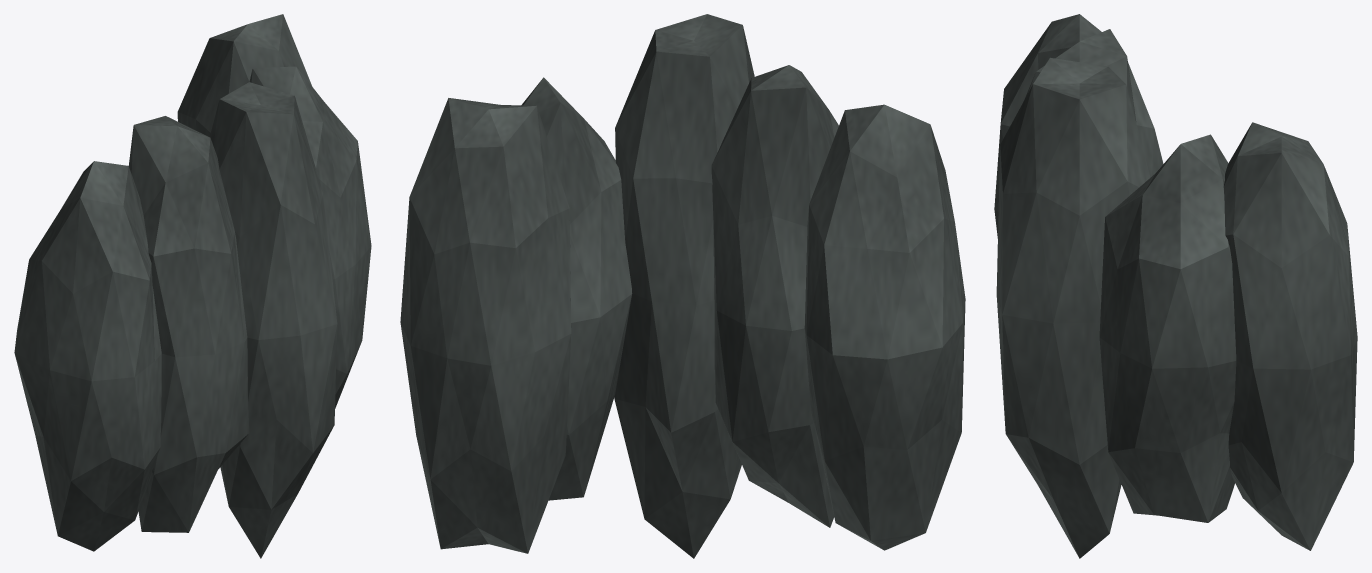
Rendered from cliff_corner.glb.
3 renders of one model, left to right at view 1: azimuth 30°, elevation 25°; view 2: azimuth 150°, elevation 25°; view 3: azimuth 270°, elevation 25°, orthographic. The views are drawn at different scales.
Parts seen in each view (by area): view 1: Cliff, Cliff.002, Cliff.001, Cliff.003, Cliff.004; view 2: Cliff.004, Cliff, Cliff.002, Cliff.001, Cliff.003; view 3: Cliff.002, Cliff.004, Cliff.003, Cliff, Cliff.001.
Part boxes in pixels (<box>): Cliff: <box>14,161,161,551</box>; Cliff.002: <box>210,82,337,558</box>; Cliff.001: <box>128,116,249,532</box>; Cliff.003: <box>249,66,371,408</box>; Cliff.004: <box>177,14,312,136</box>; Cliff.004: <box>400,98,571,553</box>; Cliff: <box>804,104,965,550</box>; Cliff.002: <box>614,14,754,558</box>; Cliff.001: <box>711,65,838,527</box>; Cliff.003: <box>521,77,632,500</box>; Cliff.002: <box>996,57,1150,558</box>; Cliff.004: <box>1223,122,1357,550</box>; Cliff.003: <box>1099,134,1236,522</box>; Cliff: <box>994,14,1163,238</box>; Cliff.001: <box>1024,29,1136,121</box>.
Bounding box in the file's own units: 10.44 × 12.23 × 8.27.
Materials: 1 (1 with a texture image).
